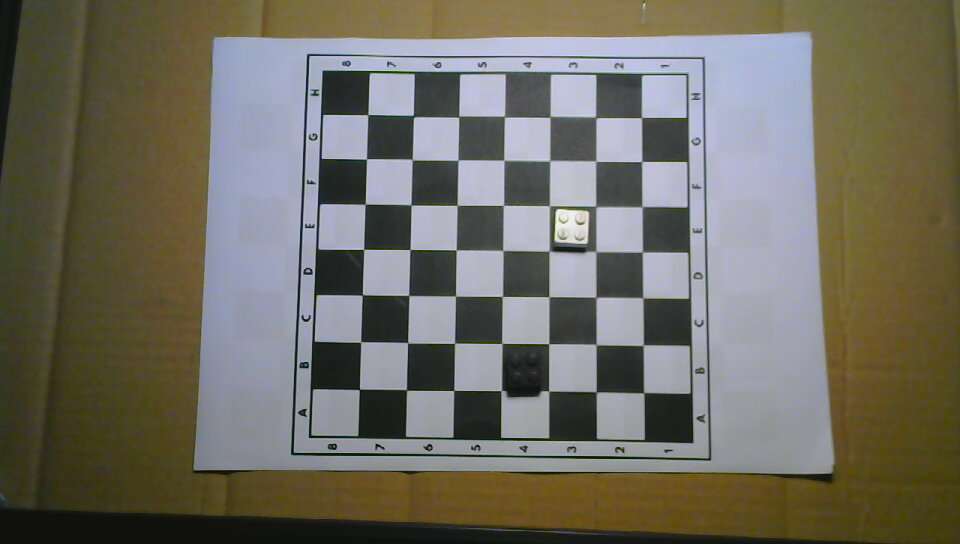bp: (502, 348, 544, 389)
wp: (554, 207, 589, 250)
